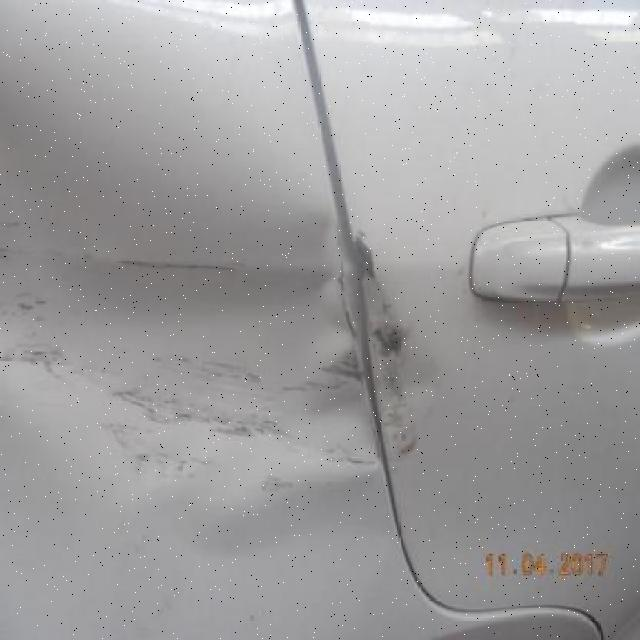damage: (4, 211, 424, 485)
